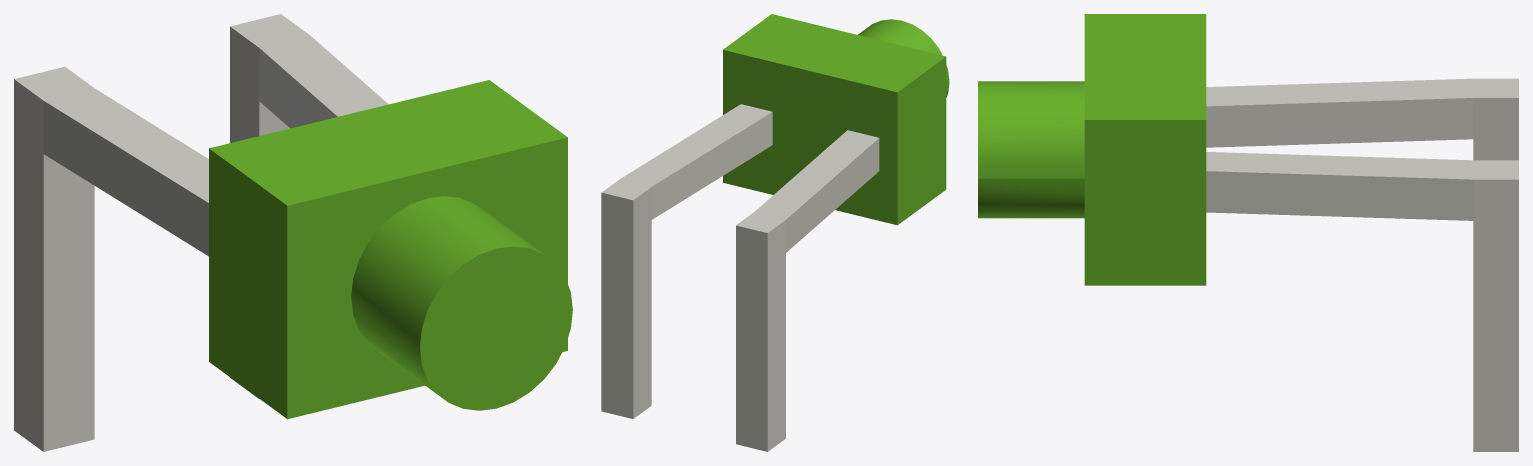
The model's file is kc-led_d1.8mm_w1.8mm_h2.4mm_horizontal_o3.81mm_z1.6mm.glb.
3 renders of one model, left to right at view 1: azimuth 30°, elevation 25°; view 2: azimuth 150°, elevation 25°; view 3: azimuth 270°, elevation 25°, orthographic. The views are drawn at different scales.
Visible parts, largest first — view 1: 0.16666666666666666_0.4166666666666667_0_0, 0.6666666666666666_0.6666666666666666_0.5833333333333334_0.8; view 2: 0.6666666666666666_0.6666666666666666_0.5833333333333334_0.8, 0.16666666666666666_0.4166666666666667_0_0; view 3: 0.6666666666666666_0.6666666666666666_0.5833333333333334_0.8, 0.16666666666666666_0.4166666666666667_0_0.
Part boxes in pixels (x1,y1,x2,y2): 0.16666666666666666_0.4166666666666667_0_0: [209, 80, 572, 419]; 0.6666666666666666_0.6666666666666666_0.5833333333333334_0.8: [14, 14, 388, 451]; 0.6666666666666666_0.6666666666666666_0.5833333333333334_0.8: [601, 104, 879, 451]; 0.16666666666666666_0.4166666666666667_0_0: [723, 14, 949, 225]; 0.6666666666666666_0.6666666666666666_0.5833333333333334_0.8: [1206, 78, 1518, 451]; 0.16666666666666666_0.4166666666666667_0_0: [978, 14, 1206, 285].
Bounding box in the file's own units: 0.33 × 0.485 × 0.711.
